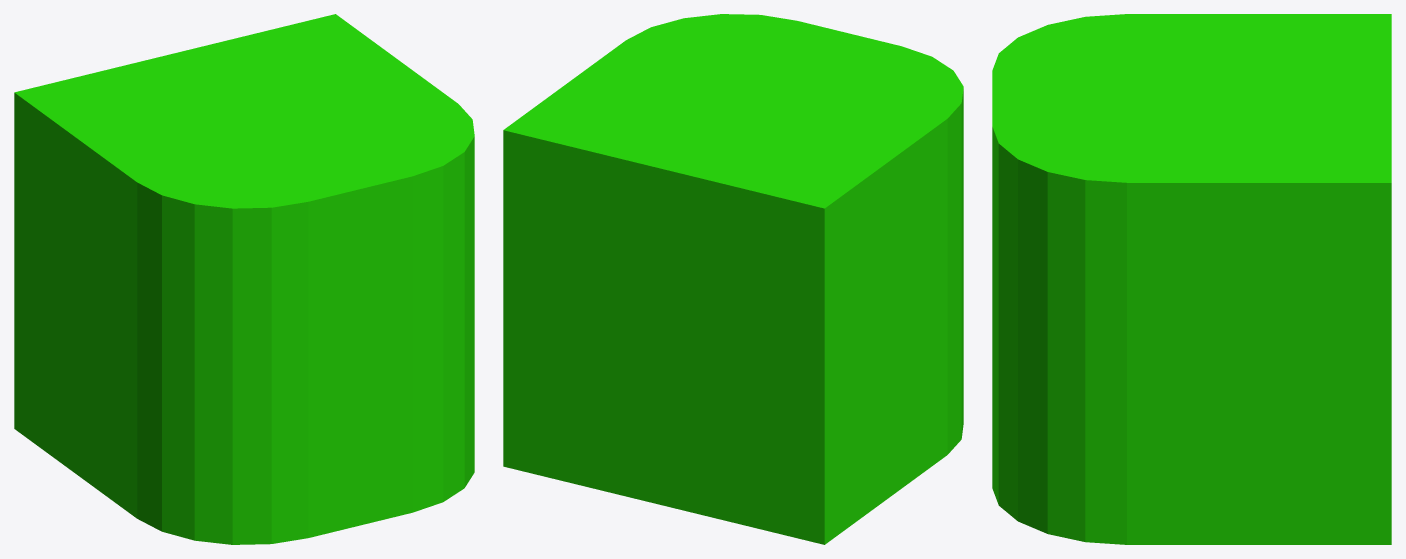
Rendered from Cift_Tarafl_Kose.fbx.
3 views of the same model, side by side, from view 1: azimuth 30°, elevation 25°; view 2: azimuth 150°, elevation 25°; view 3: azimuth 270°, elevation 25° (orthographic). The views are drawn at different scales.
Parts seen in each view (by area): view 1: Cube; view 2: Cube; view 3: Cube.
Part boxes in pixels (left/top/right/bottom): Cube: left=14, top=14, right=474, bottom=544; Cube: left=503, top=14, right=963, bottom=544; Cube: left=992, top=14, right=1391, bottom=544.
Bounding box in the file's own units: 200 × 200 × 200.
